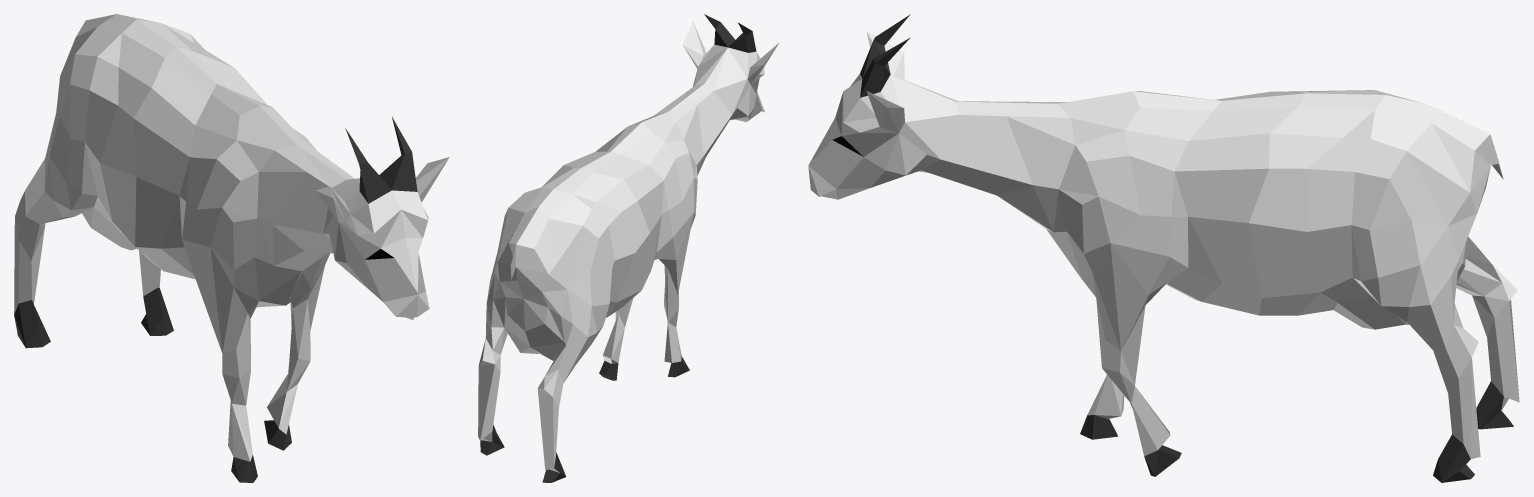
Rendered from Goat_2.FBX.
3 renders of one model, left to right at view 1: azimuth 30°, elevation 25°; view 2: azimuth 150°, elevation 25°; view 3: azimuth 270°, elevation 25°, orthographic. The views are drawn at different scales.
Visible parts, largest first — view 1: Goat_2; view 2: Goat_2; view 3: Goat_2.
Boxes of the visible parts, x1,y1,x2,y2 form: Goat_2: (14,14,449,482); Goat_2: (478,14,779,482); Goat_2: (808,14,1519,482).
Bounding box in the file's own units: 0.3144 × 0.8463 × 1.26.
Materials: 1 (1 with a texture image).
